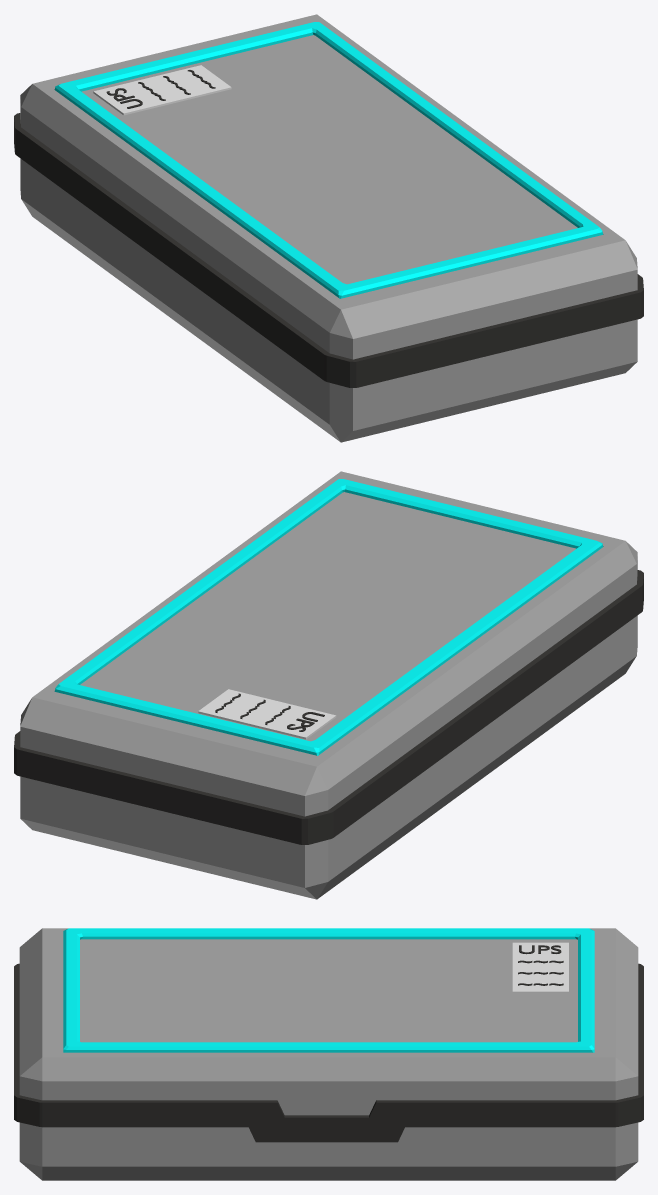
Rendered from packageone.fbx.
3 views of the same model, one above another, from view 1: azimuth 30°, elevation 25°; view 2: azimuth 150°, elevation 25°; view 3: azimuth 270°, elevation 25° (orthographic). The views are drawn at different scales.
Parts seen in each view (by area): view 1: Plane; view 2: Plane; view 3: Plane, test.
Boxes of the visible parts, <box> form: Plane: <box>14,14,643,442</box>; Plane: <box>14,471,643,899</box>; Plane: <box>14,928,643,1180</box>; test: <box>518,945,563,985</box>.
Size of the model in its own units: 118 by 49.35 by 219.
